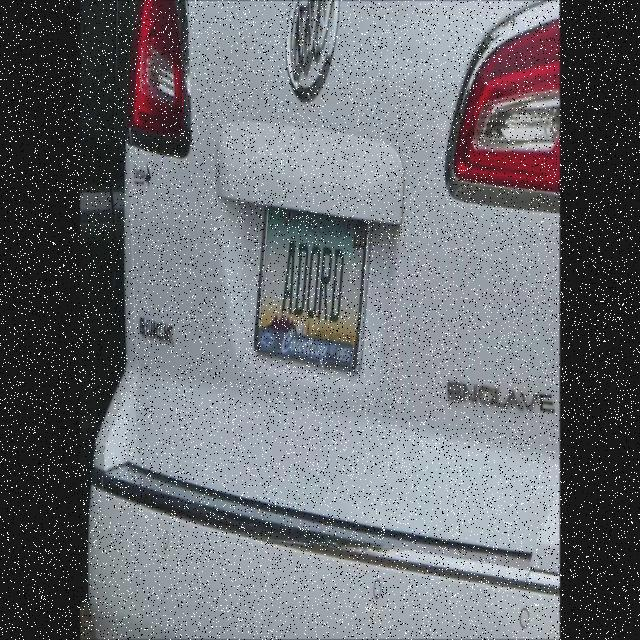licenseplate: (258, 209, 358, 372)
